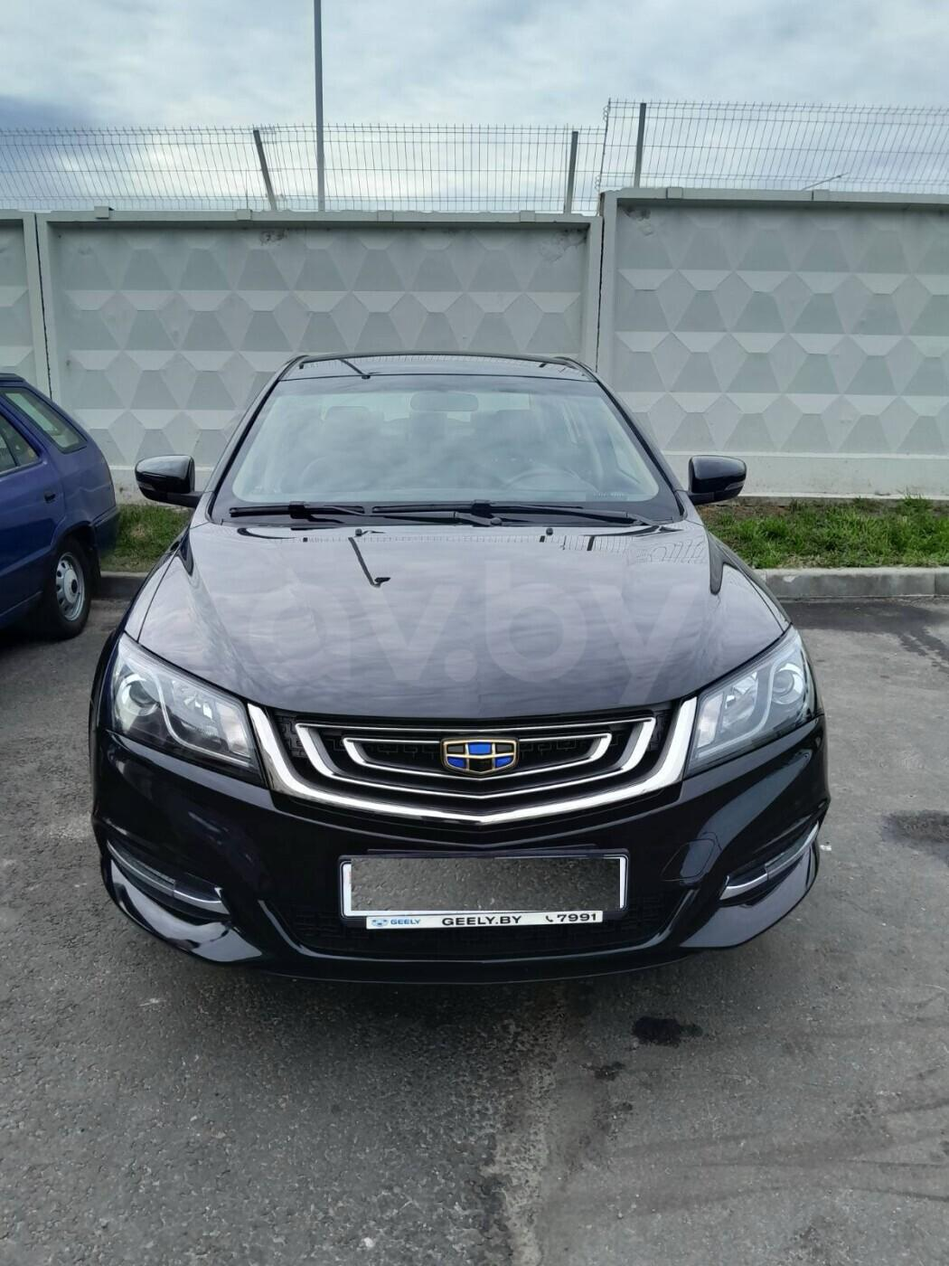Emgrand_2019-2021: (89, 354, 829, 980)
